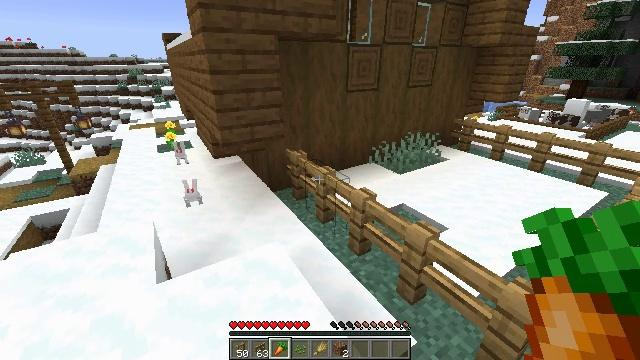cow: (600, 104, 630, 125), (549, 114, 580, 128)
sheep: (582, 107, 612, 129), (519, 105, 543, 122)
